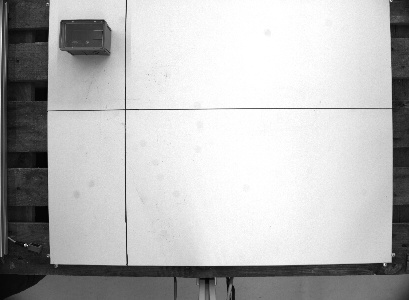kltxs: (57, 16, 114, 57)
